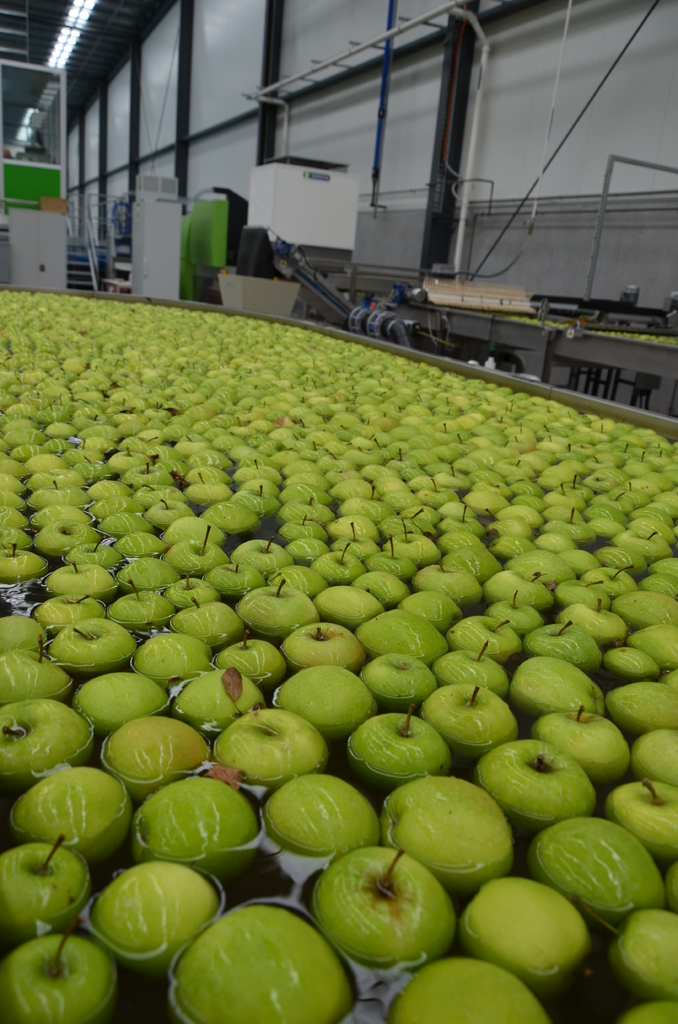Apple: (0, 285, 677, 1023), (309, 845, 471, 962)
